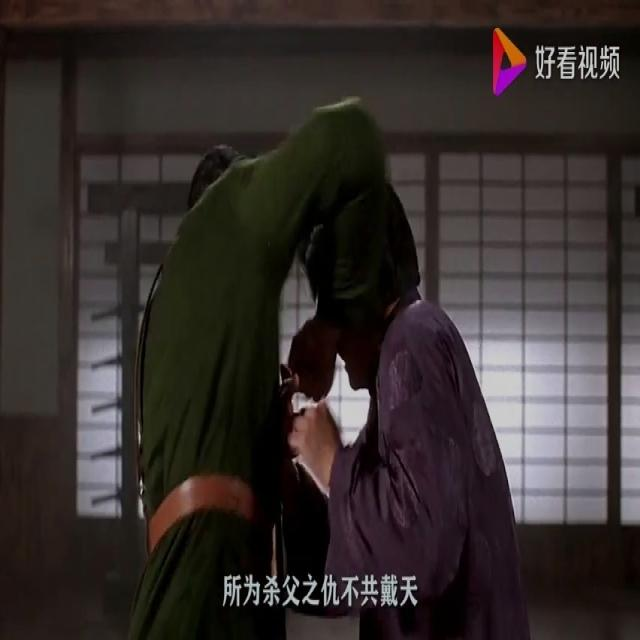fight: (122, 90, 535, 640)
